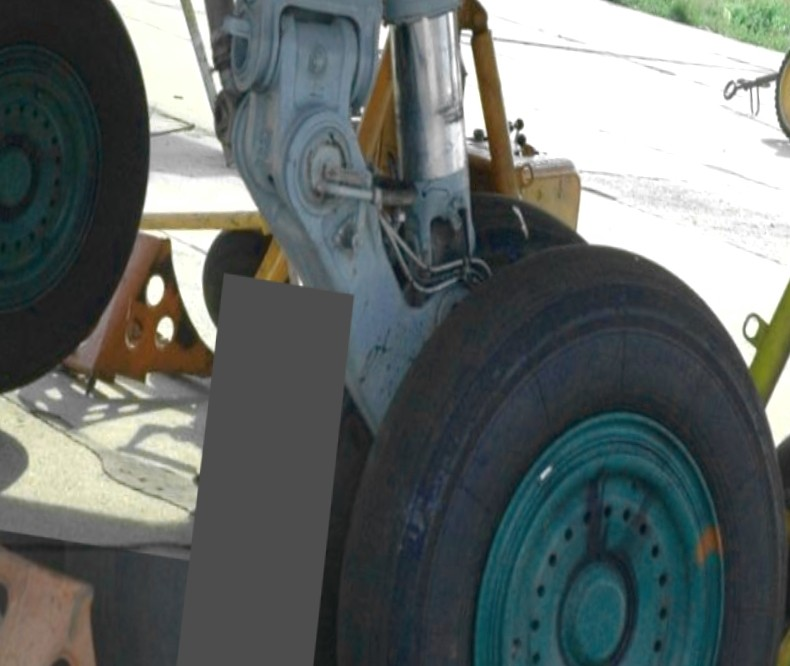wheel: (305, 202, 790, 666), (0, 0, 176, 426)
